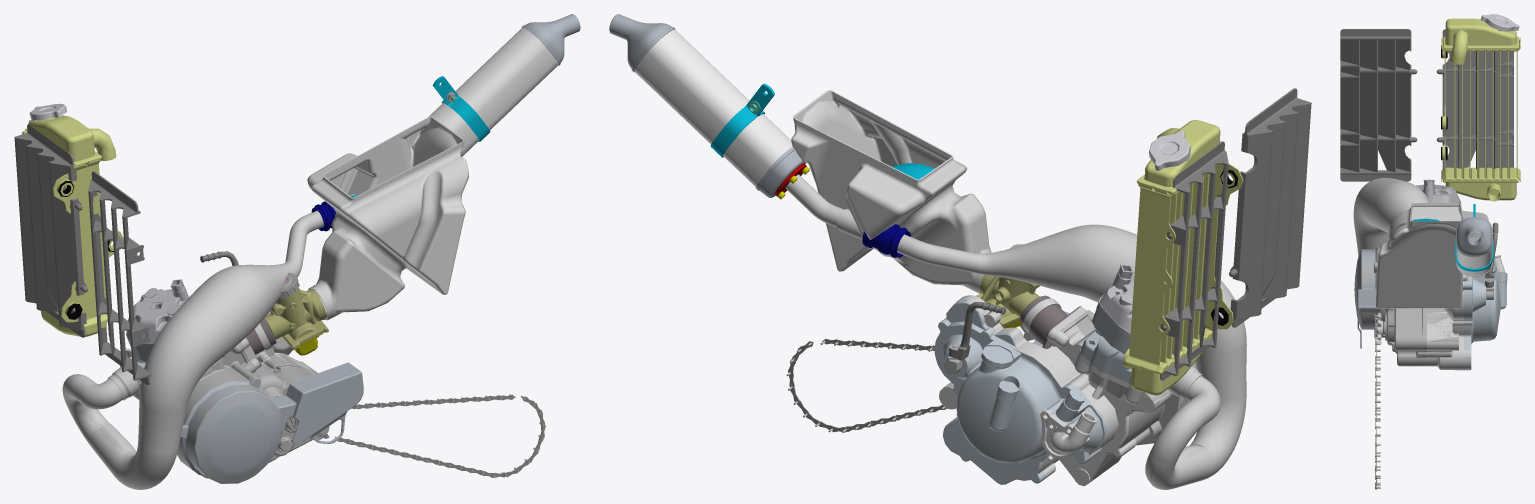
The model's file is Engine.fbx.
3 views of the same model, side by side, from view 1: azimuth 30°, elevation 25°; view 2: azimuth 150°, elevation 25°; view 3: azimuth 270°, elevation 25° (orthographic). The views are drawn at different scales.
Visible parts, largest first — view 1: E - Exhaust, E - Cooling System, E - Air Filter, E - Crank Case, E - Motor Gear Box, E - Carborator, E -Cylinder, Chain_Part_2_1070, E - Intake Manifold; view 2: E - Exhaust, E - Cooling System, E - Air Filter, E - Motor Gear Box, E - Engine House, E -Cylinder, E - Motor Box, E - Carborator, E - Water Pump, E - Intake Manifold, Chain_Part_2_1070, E - Kick Starter; view 3: E - Cooling System, E - Air Filter, E - Motor Gear Box, E - Exhaust, E - Engine House, E - Motor Box, E - Crank Case, E -Cylinder, Chain_Part_1_1000, E - Kick Starter, Chain_Part_2_1070, E - Front Sprocket.
Part boxes in pixels (x1,y1,x2,y2): E - Exhaust: (62, 14, 580, 489); E - Cooling System: (14, 103, 151, 384); E - Air Filter: (307, 116, 468, 320); E - Crank Case: (180, 362, 363, 483); E - Motor Gear Box: (133, 311, 355, 483); E - Carborator: (264, 272, 328, 355); E -Cylinder: (126, 279, 188, 368); Chain_Part_2_1070: (293, 394, 545, 477); E - Intake Manifold: (241, 318, 276, 369); E - Exhaust: (609, 14, 1246, 489); E - Cooling System: (1123, 88, 1311, 395); E - Air Filter: (791, 90, 991, 293); E - Motor Gear Box: (935, 295, 1196, 485); E - Engine House: (934, 301, 1107, 484); E -Cylinder: (1080, 264, 1133, 384); E - Motor Box: (939, 295, 1169, 485); E - Carborator: (976, 244, 1039, 328); E - Water Pump: (1040, 409, 1097, 461); E - Intake Manifold: (1020, 295, 1086, 348); Chain_Part_2_1070: (788, 338, 947, 432); E - Kick Starter: (943, 302, 1006, 374); E - Cooling System: (1340, 14, 1520, 201); E - Air Filter: (1375, 203, 1488, 308); E - Motor Gear Box: (1357, 247, 1506, 369); E - Exhaust: (1353, 178, 1493, 276); E - Engine House: (1464, 265, 1507, 370); E - Motor Box: (1427, 277, 1463, 370); E - Crank Case: (1354, 247, 1380, 348); E -Cylinder: (1416, 179, 1460, 203); Chain_Part_1_1000: (1375, 315, 1380, 488); E - Kick Starter: (1485, 222, 1498, 299); Chain_Part_2_1070: (1374, 314, 1377, 489); E - Front Sprocket: (1375, 312, 1385, 343).
Bounding box in the file's own units: 29.49 × 21.28 × 10.73.
